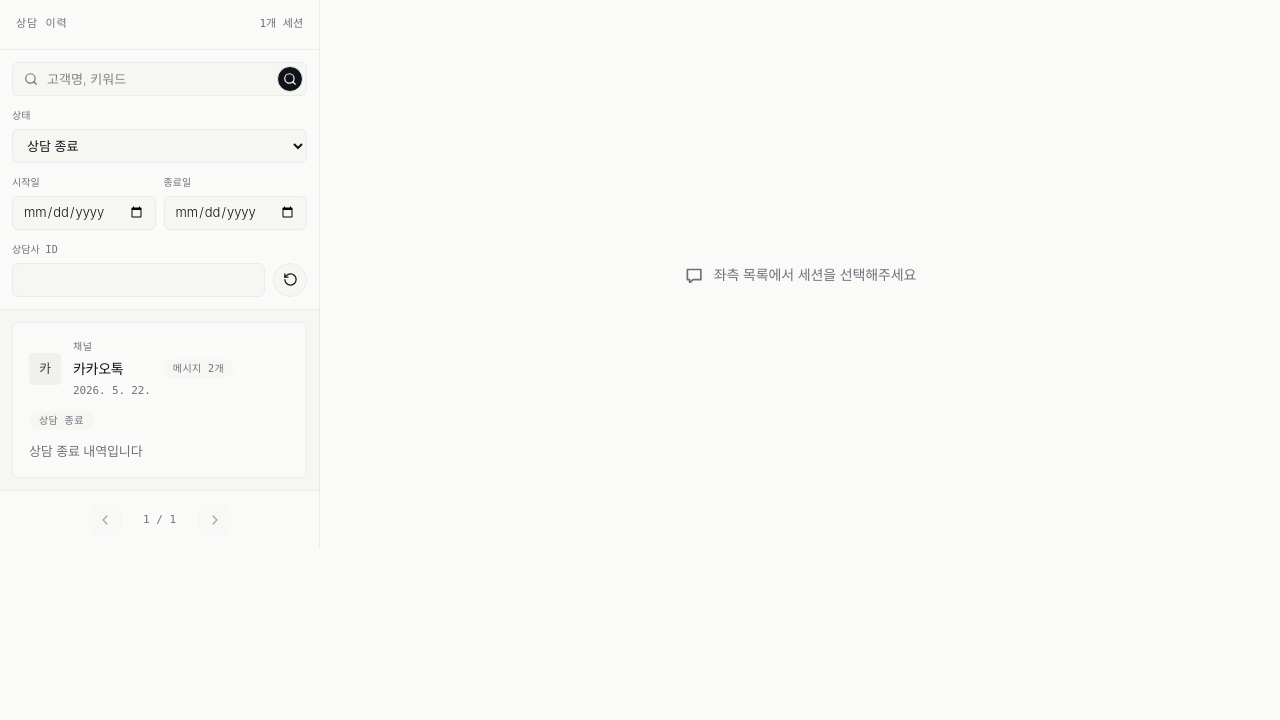
ChatHistoryPage › 상담사 메시지는 상담사 역할로 표시한다
Click the button "카 채널 카카오톡 2026. 5. 22. 메시지 2개 상담 종료 상담 종료 내역입니다": point(45, 369) 12,322 -> 307,478
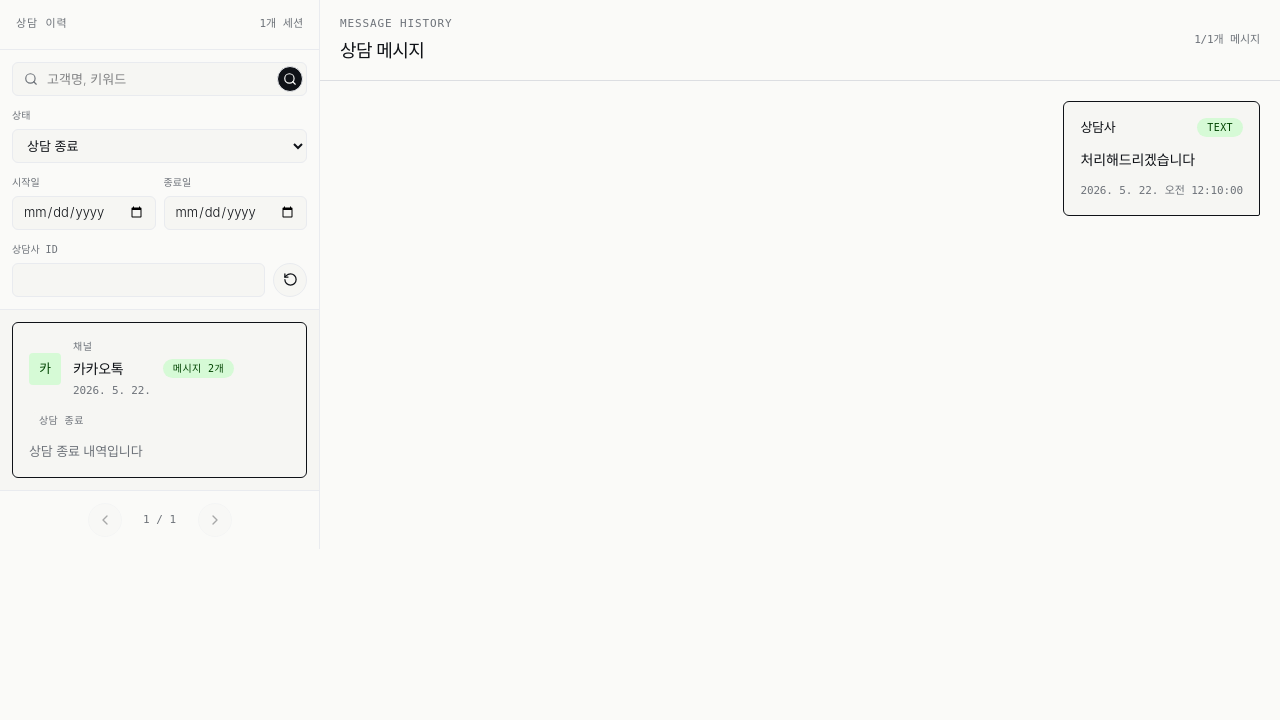
Now the text "상담사" is shown, box 1080,118 -> 1116,137
Now the text "처리해드리겠습니다" is shown, box 1080,151 -> 1195,168
